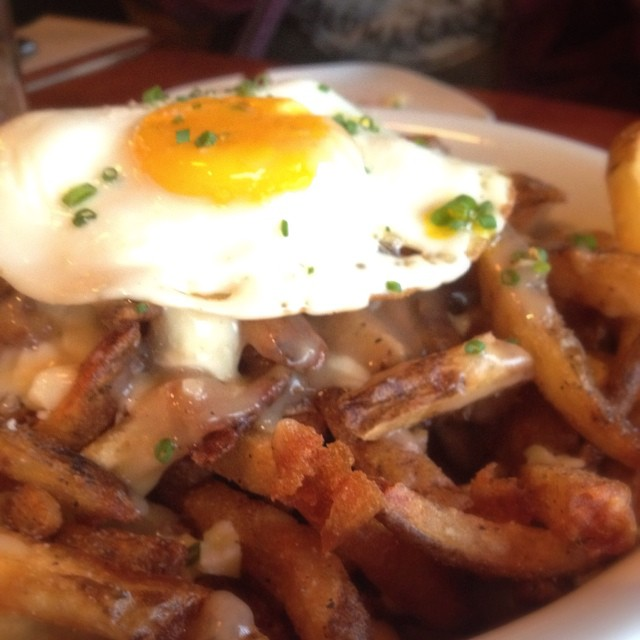fried egg: (29, 85, 441, 297)
